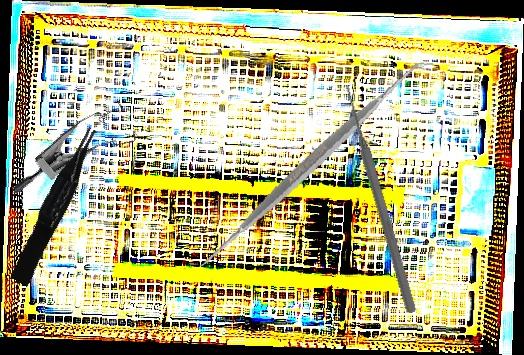Pusher: (339, 82, 420, 315)
Spatula Surgical: (189, 37, 434, 291)
Speculum: (9, 82, 149, 232)
Tissue Forceps: (3, 125, 110, 287)
